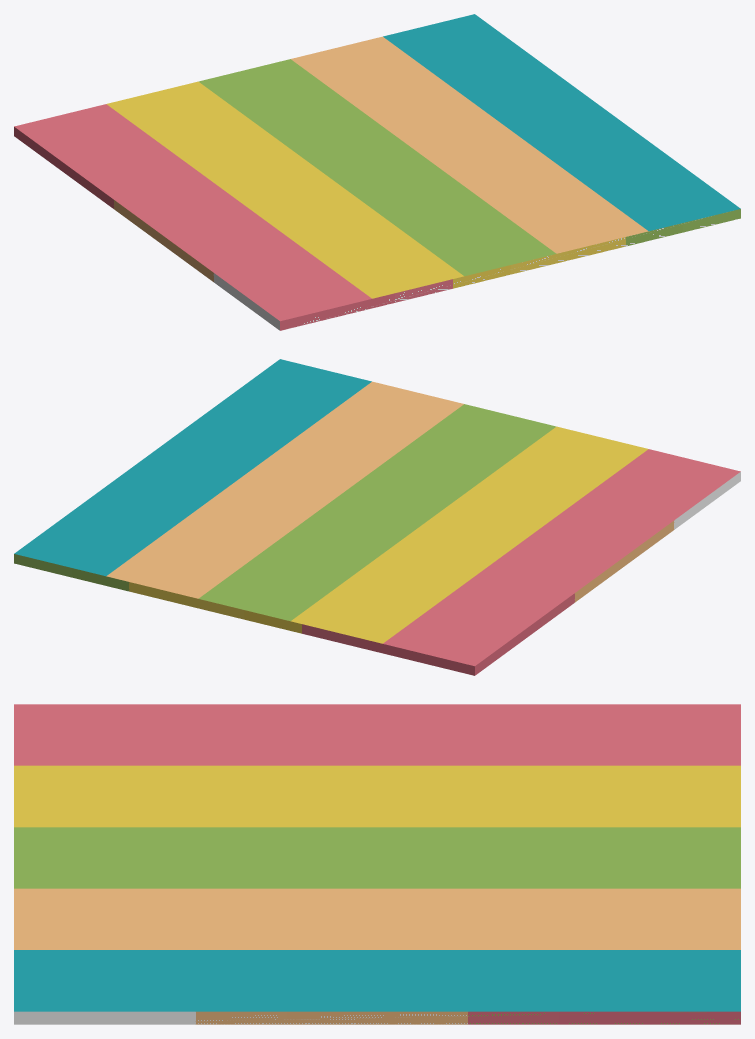
The model's file is gummy-strip-path.glb.
3 views of the same model, one above another, from view 1: azimuth 30°, elevation 25°; view 2: azimuth 150°, elevation 25°; view 3: azimuth 270°, elevation 25° (orthographic). The views are drawn at different scales.
Parts seen in each view (by area): view 1: path; view 2: path; view 3: path.
Boxes of the visible parts, x1,y1,x2,y2 form: path: (14, 14, 740, 330); path: (14, 359, 740, 675); path: (14, 704, 740, 1024).
Size of what is drawn, in the model's own units: 2 by 0.0399 by 2.
Materials: 1 (1 with a texture image).
